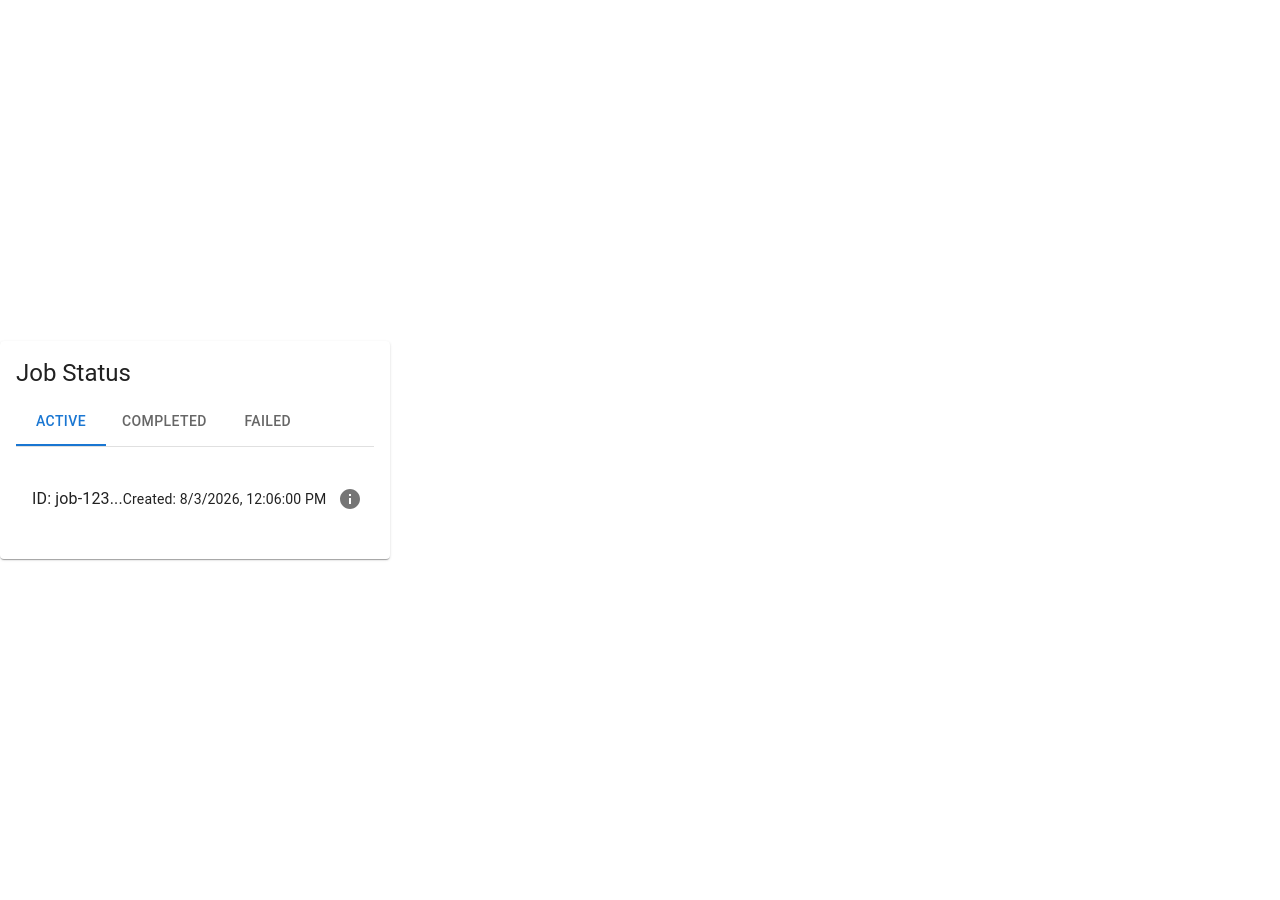
Test: JobDashboard › opens job details when info button is clicked
This screenshot has width=1280, height=900.
Step 1. Click the button named "info" → coordinates (350, 499), box [330,479,370,519]
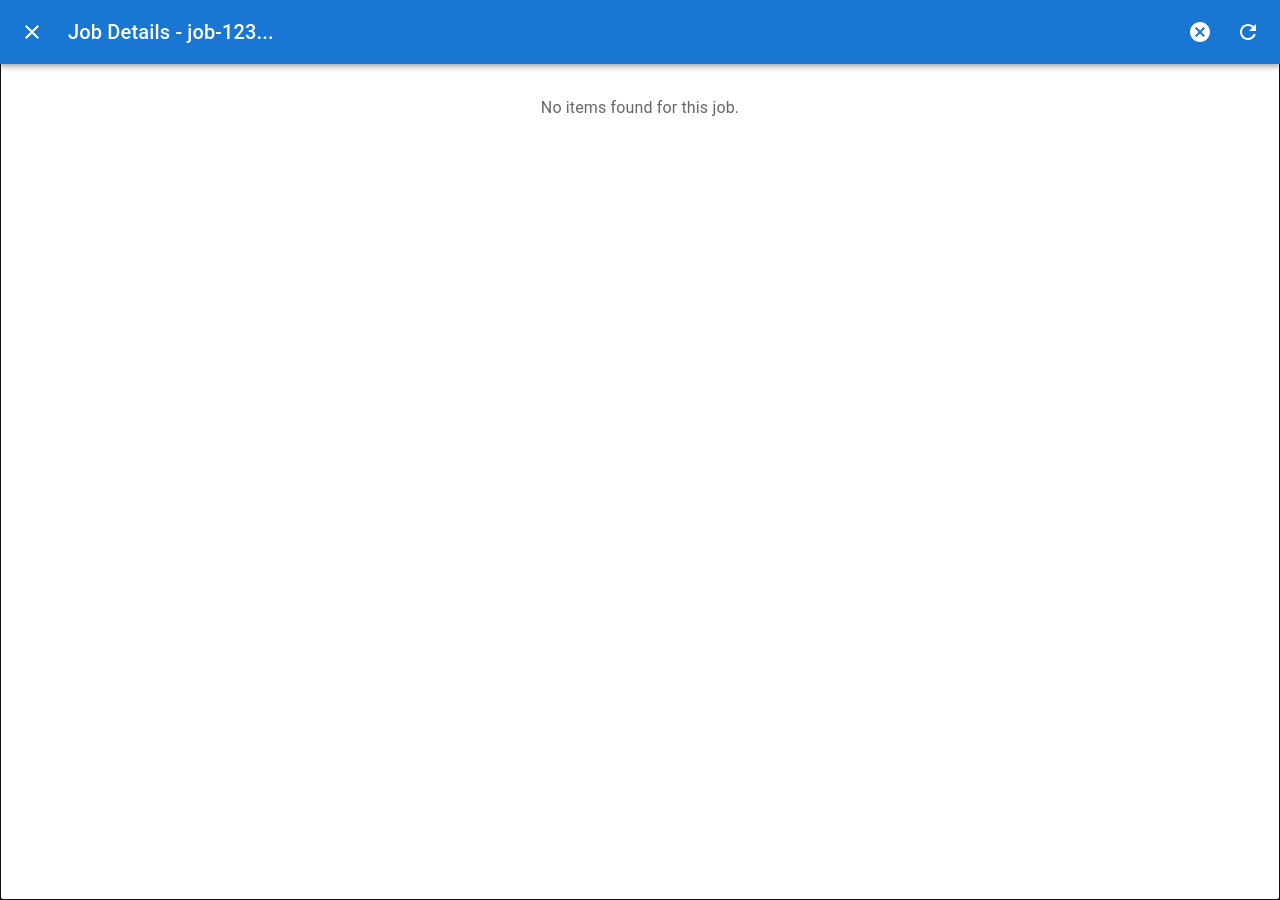
Expected: the text "Job Details - job-123..." is shown, [68,20,274,44]
